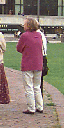person: (14, 18, 58, 121)
